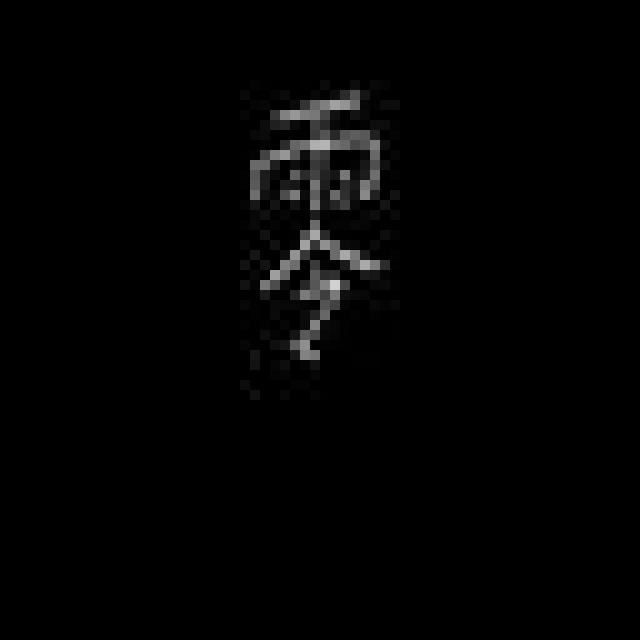0 -zero-: (233, 84, 393, 381)
